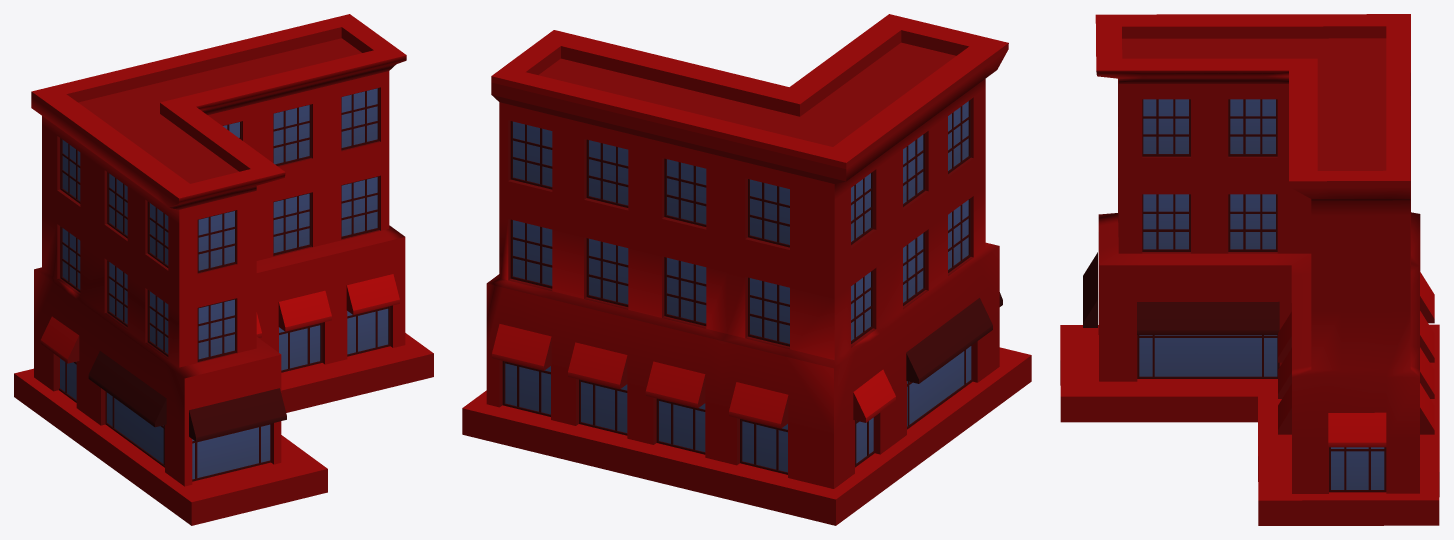
The model's file is buildings-business-commercialbuilding_v2.fbx.
The picture shows the model from 3 angles, left to right: view 1: azimuth 30°, elevation 25°; view 2: azimuth 150°, elevation 25°; view 3: azimuth 270°, elevation 25°; orthographic projection. The views are drawn at different scales.
Visible parts, largest first — view 1: CommercialBuilding_v2_base, CommercialBuilding_v2_windowRefl, CommercialBuilding_v2_color; view 2: CommercialBuilding_v2_base, CommercialBuilding_v2_windowRefl, CommercialBuilding_v2_color; view 3: CommercialBuilding_v2_base, CommercialBuilding_v2_windowRefl, CommercialBuilding_v2_color.
Part boxes in pixels (x1=…): CommercialBuilding_v2_base: x1=14, y1=14, x2=433, y2=525; CommercialBuilding_v2_windowRefl: x1=60, y1=88, x2=388, y2=479; CommercialBuilding_v2_color: x1=40, y1=274, x2=399, y2=441; CommercialBuilding_v2_base: x1=462, y1=14, x2=1031, y2=525; CommercialBuilding_v2_windowRefl: x1=505, y1=101, x2=971, y2=472; CommercialBuilding_v2_color: x1=492, y1=292, x2=1002, y2=428; CommercialBuilding_v2_base: x1=1060, y1=14, x2=1439, y2=525; CommercialBuilding_v2_windowRefl: x1=1139, y1=99, x2=1384, y2=489; CommercialBuilding_v2_color: x1=1083, y1=252, x2=1434, y2=447.
Size of the model in its own units: 23.36 by 20.92 by 21.28.
